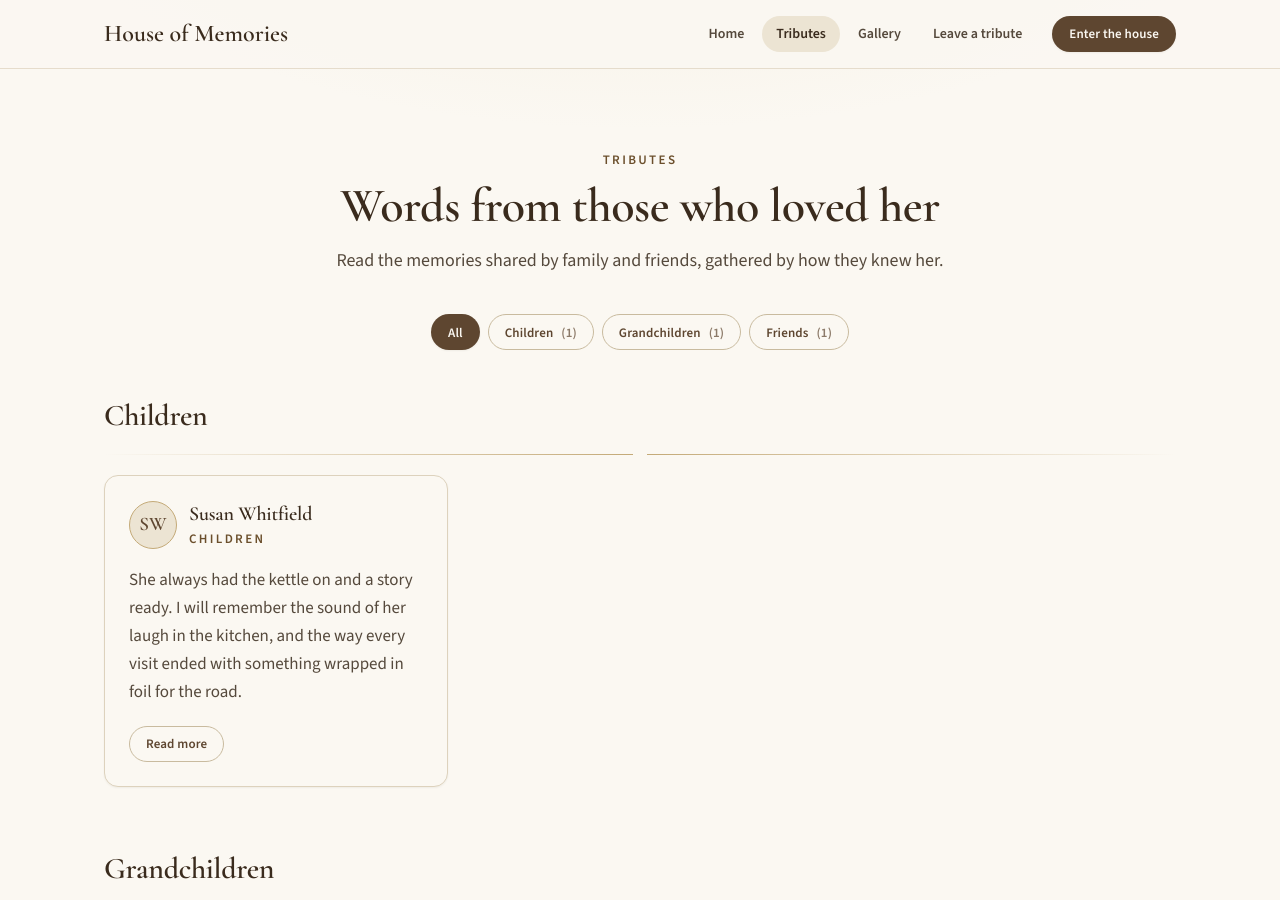
tribute browsing (2D, no WebGL needed) › opens the reading window with the full tribute and closes it with the Close button
Expected: the heading "Susan Whitfield" is shown, [189, 500, 312, 528]
What coordinates should you click on to do the following:
click the button with aria-label "Read more: tribute from Susan Whitfield"
I would click on:
 (177, 744)
Its box is [129, 726, 224, 762].
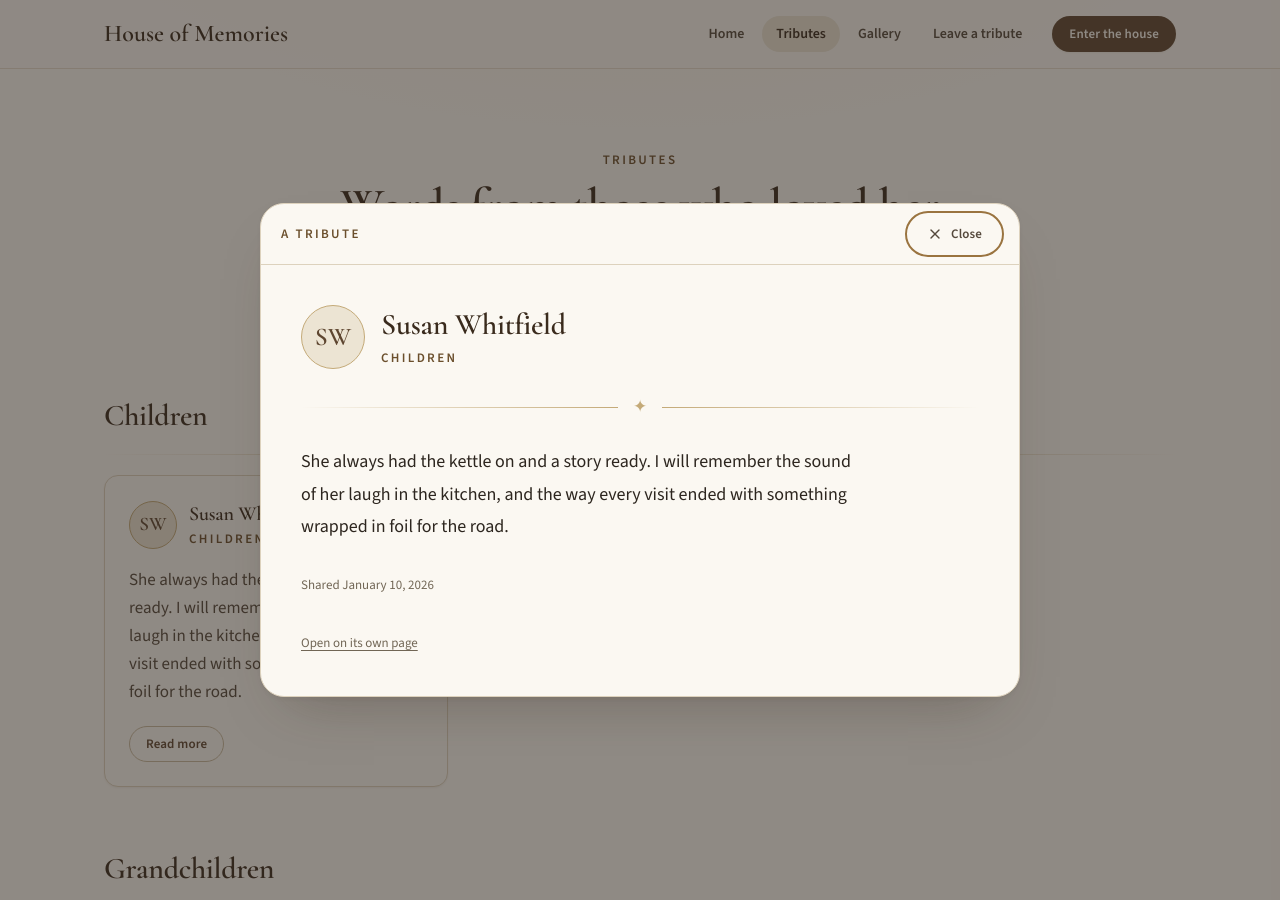
Now the text "She always had the kettle on and a story ready. I will remember the sound of her laugh in the kitchen, and the way every" is shown, box [301, 449, 851, 538]
What coordinates should you click on to do the following:
click the button with aria-label "close tribute"
I would click on:
 (954, 234)
Its box is [910, 216, 999, 252].
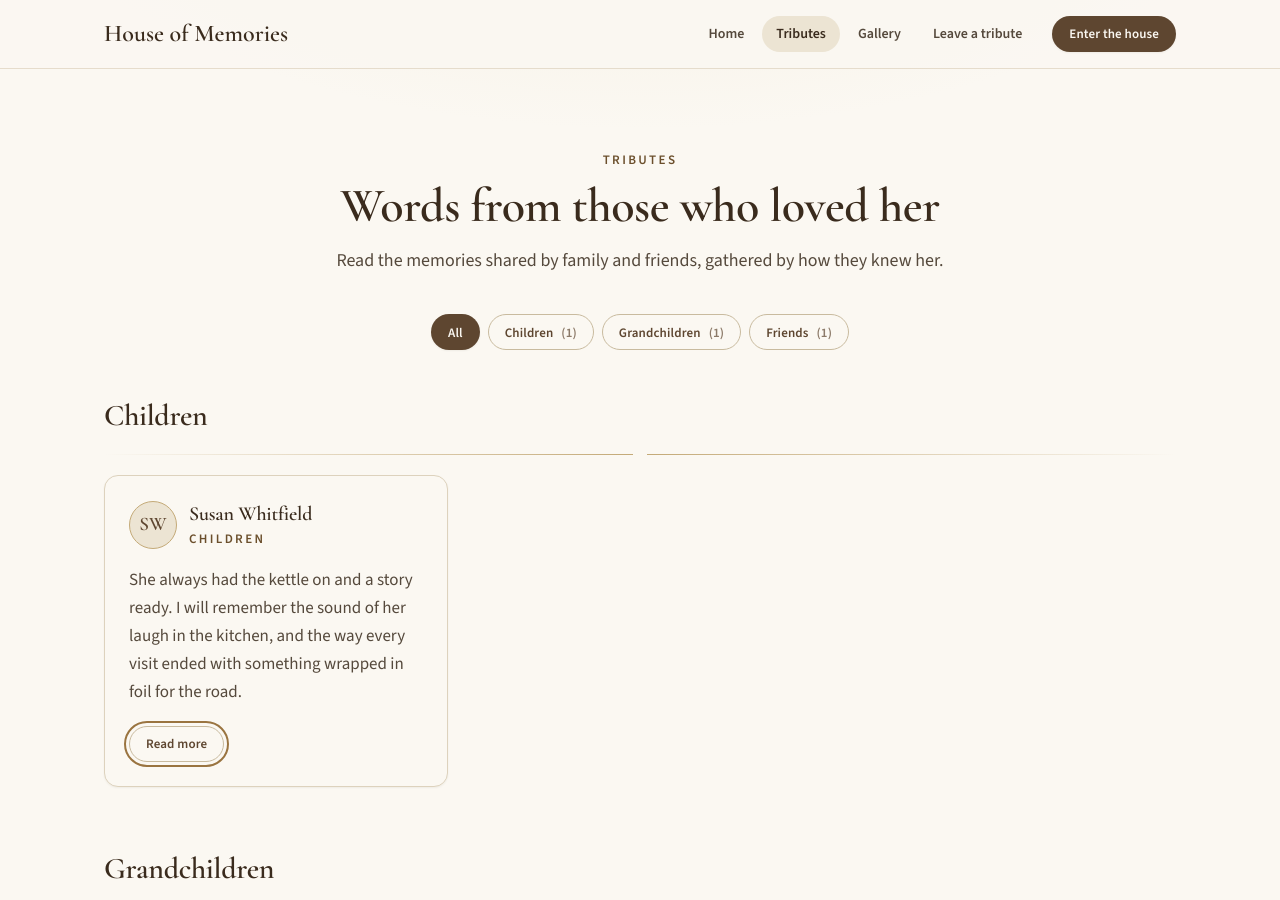
Now the dialog is gone
